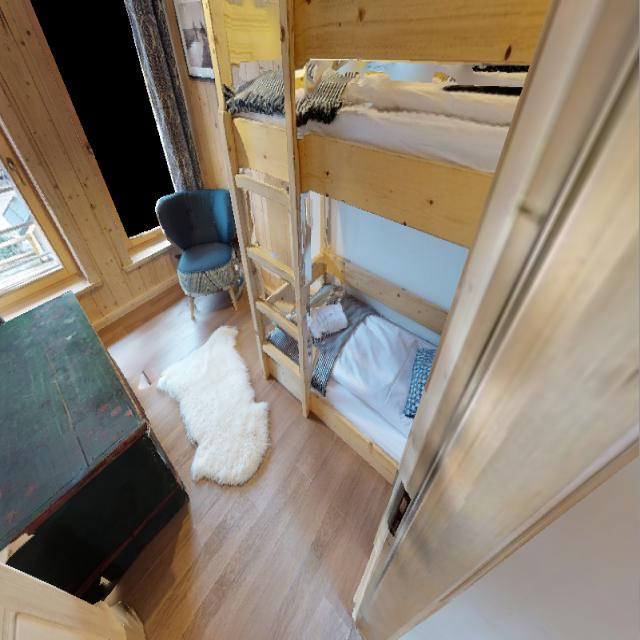bed: (271, 261, 466, 505)
sofa: (151, 175, 251, 324)
